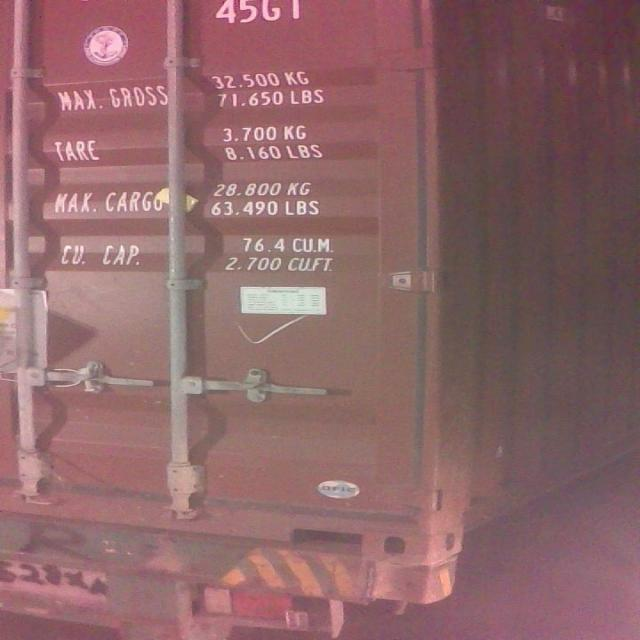seal: (69, 364, 104, 400)
